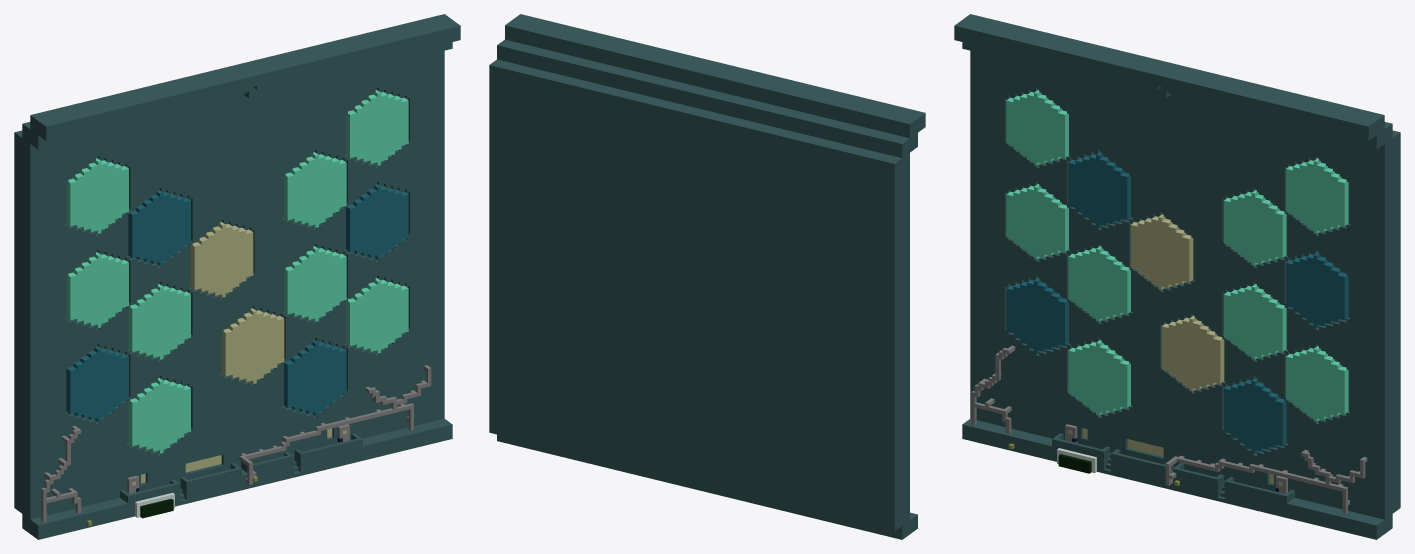
The model's file is base_wall.obj.
The picture shows the model from 3 angles, left to right: view 1: azimuth 30°, elevation 25°; view 2: azimuth 150°, elevation 25°; view 3: azimuth 330°, elevation 25°; orthographic projection. The views are drawn at different scales.
Visible parts, largest first — view 1: base_wall; view 2: base_wall; view 3: base_wall.
Boxes of the visible parts, <box> form: base_wall: <box>14,14,460,539</box>; base_wall: <box>489,14,925,539</box>; base_wall: <box>954,14,1400,539</box>.
Bounding box in the file's own units: 120 × 116 × 16.
Materials: 1 (1 with a texture image).
